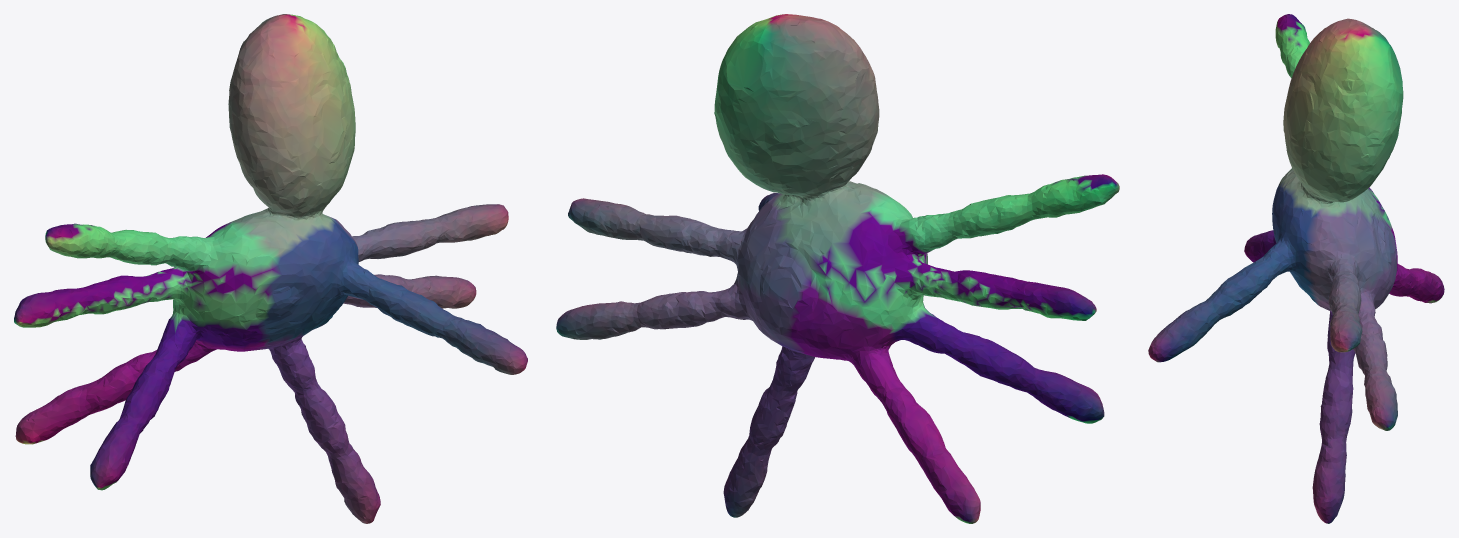
Rendered from spider-17.off.obj.
3 renders of one model, left to right at view 1: azimuth 30°, elevation 25°; view 2: azimuth 150°, elevation 25°; view 3: azimuth 270°, elevation 25°, orthographic. The views are drawn at different scales.
Bounding box in the file's own units: 1.56 × 1.52 × 0.8757.
